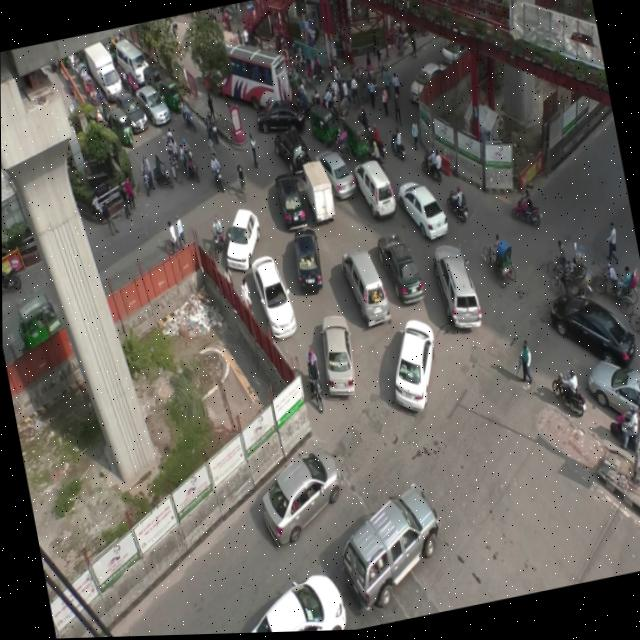cng: (7, 293, 64, 359), (304, 98, 339, 156), (342, 110, 370, 163), (158, 74, 187, 120), (112, 103, 134, 147), (138, 61, 164, 95)
rikshaw: (477, 233, 522, 291), (593, 262, 640, 316), (544, 268, 598, 312), (540, 243, 588, 286), (297, 56, 322, 93), (164, 138, 184, 181), (81, 74, 98, 108)
